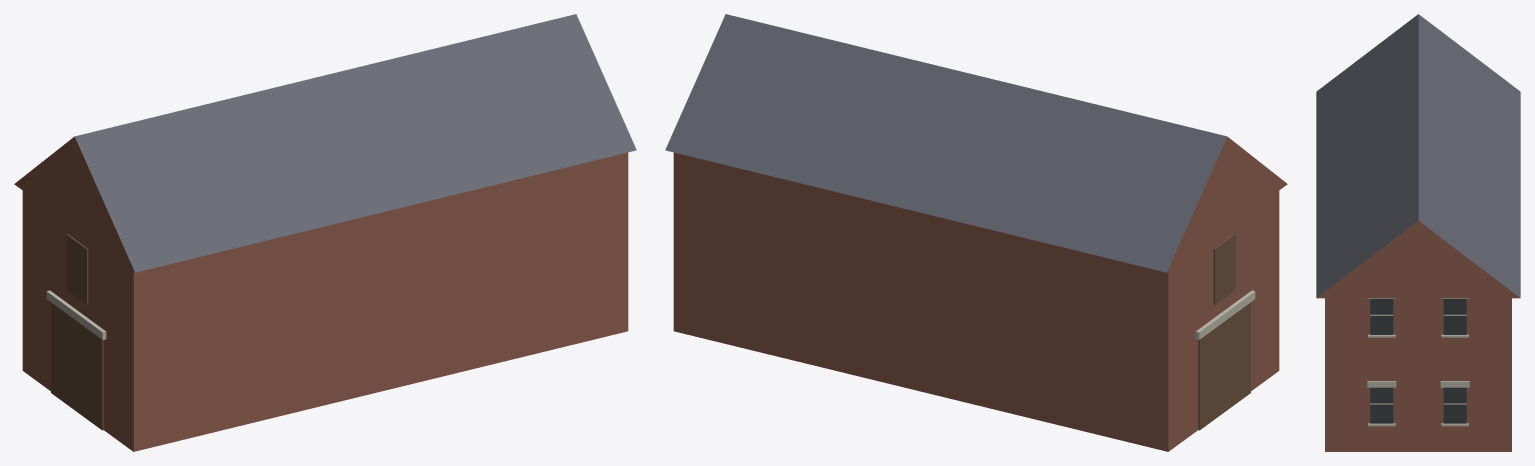
The model's file is house_2021_indiana_coach_house__draft_1904.glb.
3 renders of one model, left to right at view 1: azimuth 30°, elevation 25°; view 2: azimuth 150°, elevation 25°; view 3: azimuth 270°, elevation 25°, orthographic. The views are drawn at different scales.
Parts seen in each view (by area): view 1: house_2021_indiana_coach_house__draft_1904; view 2: house_2021_indiana_coach_house__draft_1904; view 3: house_2021_indiana_coach_house__draft_1904.
Part boxes in pixels (x1=…): house_2021_indiana_coach_house__draft_1904: x1=14, y1=14, x2=636, y2=451; house_2021_indiana_coach_house__draft_1904: x1=665, y1=14, x2=1287, y2=451; house_2021_indiana_coach_house__draft_1904: x1=1316, y1=14, x2=1520, y2=451.
Size of the model in its own units: 16.99 by 8.93 by 7.1.
